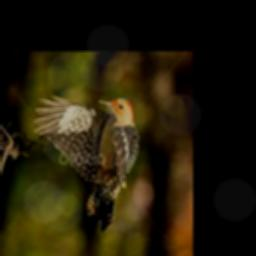Woodpecker: (33, 95, 140, 231)
